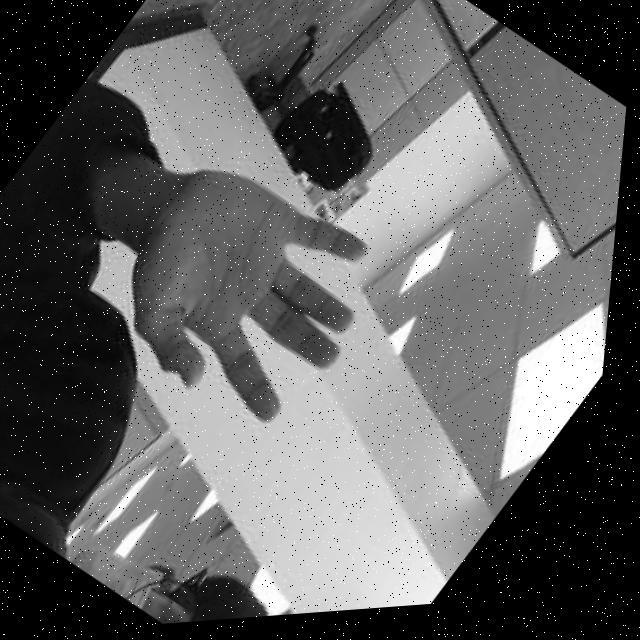no-gloves: (72, 130, 420, 462)
